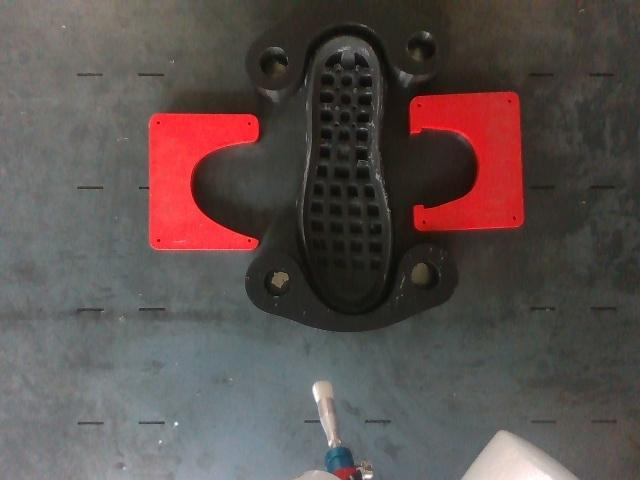shoes: (303, 36, 390, 310)
